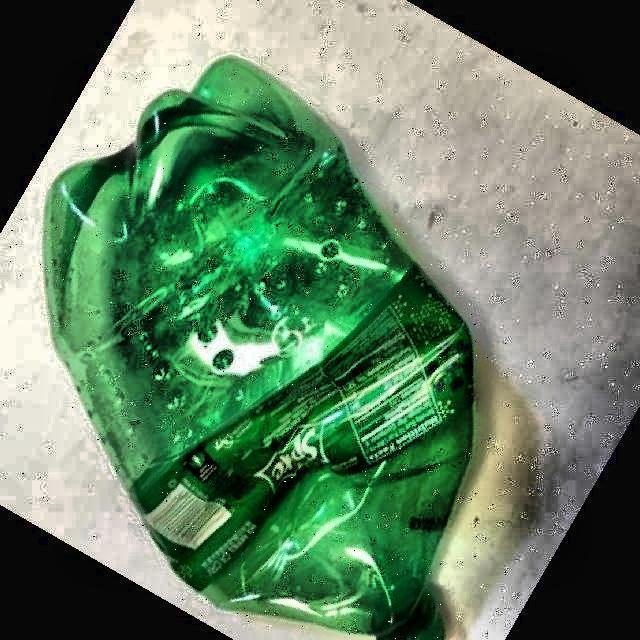plastic: (46, 59, 471, 640)
